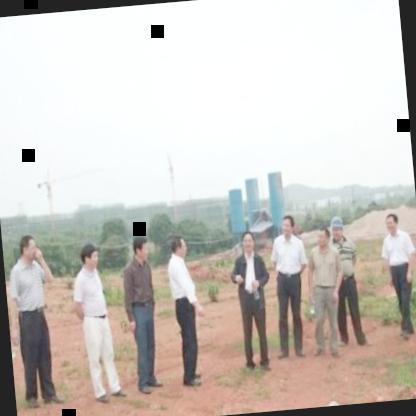head: (78, 238, 102, 272), (15, 233, 42, 262), (168, 230, 188, 262), (129, 234, 150, 262), (278, 211, 298, 239), (313, 226, 333, 250), (384, 210, 401, 238), (239, 230, 258, 254)
helmet: (330, 212, 347, 245)
